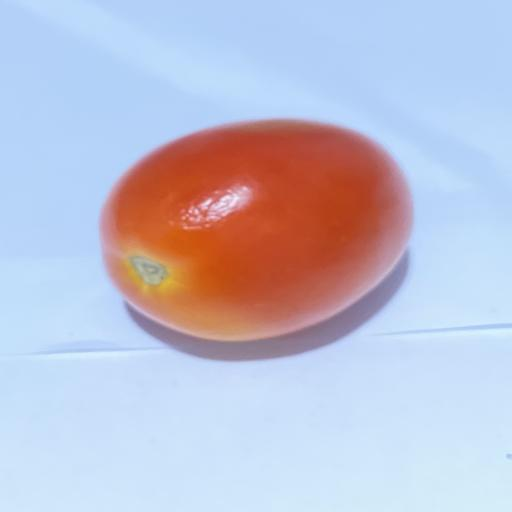overipe: (100, 119, 412, 341)
